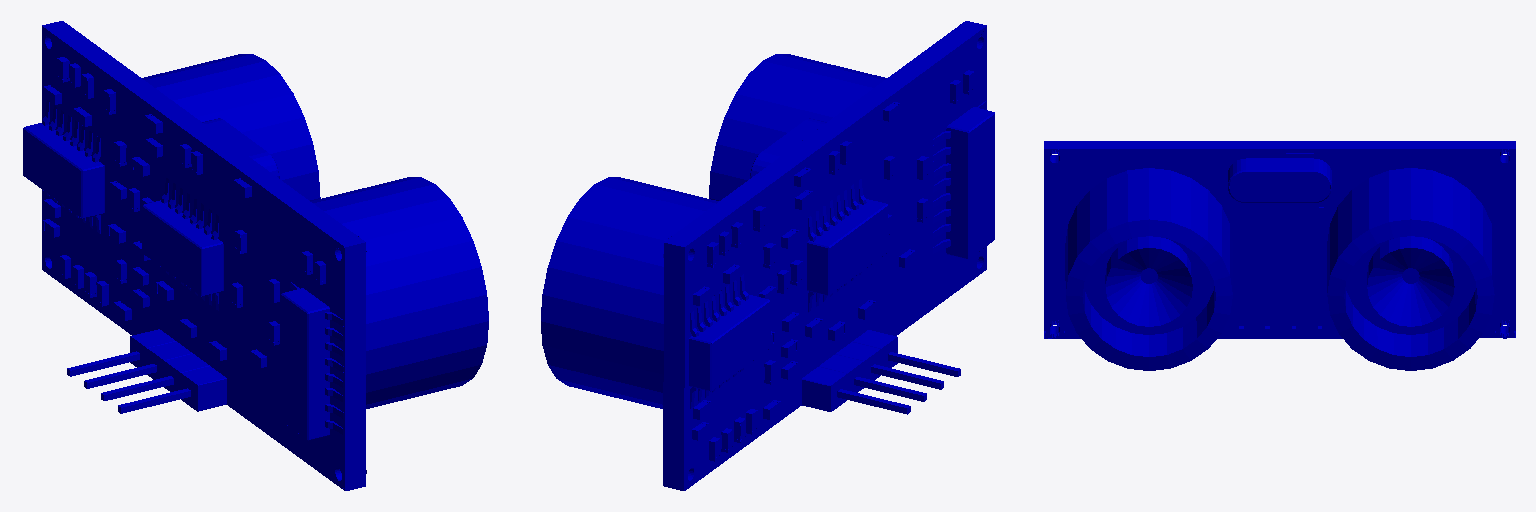
URDF robot description (ludar):
<?xml version="1.0"?>
<robot name="ludar">

<!--define the colour parameters here -->
<material name="blue">
    <color rgba="0 0 0.8 1"/>
  </material>

<link name="base_link">
    <visual>
    <!--  <origin rpy="-1.57 0 -1.57" xyz="0 0 0"/> -->
      <origin rpy="-1.57 0 -1.57" xyz="0 0.02268 0"/>
      <geometry>
        <mesh filename="package://robot_model_test/meshes/HC-SR04-binary.stl" scale="0.001 0.001 0.001"/>
      </geometry>
    <material name="blue"/>
    </visual>
  </link>



</robot>

--- What the picture shows (computed from the rendered views, not written in the file) ---
3 views of the same robot in one strip: view 1: azimuth 30°, elevation 25°; view 2: azimuth 150°, elevation 25°; view 3: azimuth 270°, elevation 25° (orthographic).
Model ludar with 1 links and 0 joints (none), rooted at base_link, posed all joints at 0.
Visible links, largest first — view 1: base_link; view 2: base_link; view 3: base_link.
Boxes of the visible links, left/top/right/bottom form: base_link: left=23, top=21, right=488, bottom=490; base_link: left=541, top=21, right=994, bottom=490; base_link: left=1044, top=141, right=1515, bottom=370.
Size in the robot's own frame: 0.0223 by 0.045 by 0.02 metres.
Meshes: 1 distinct files referenced, 1 mesh visuals loaded (1 binary STL).